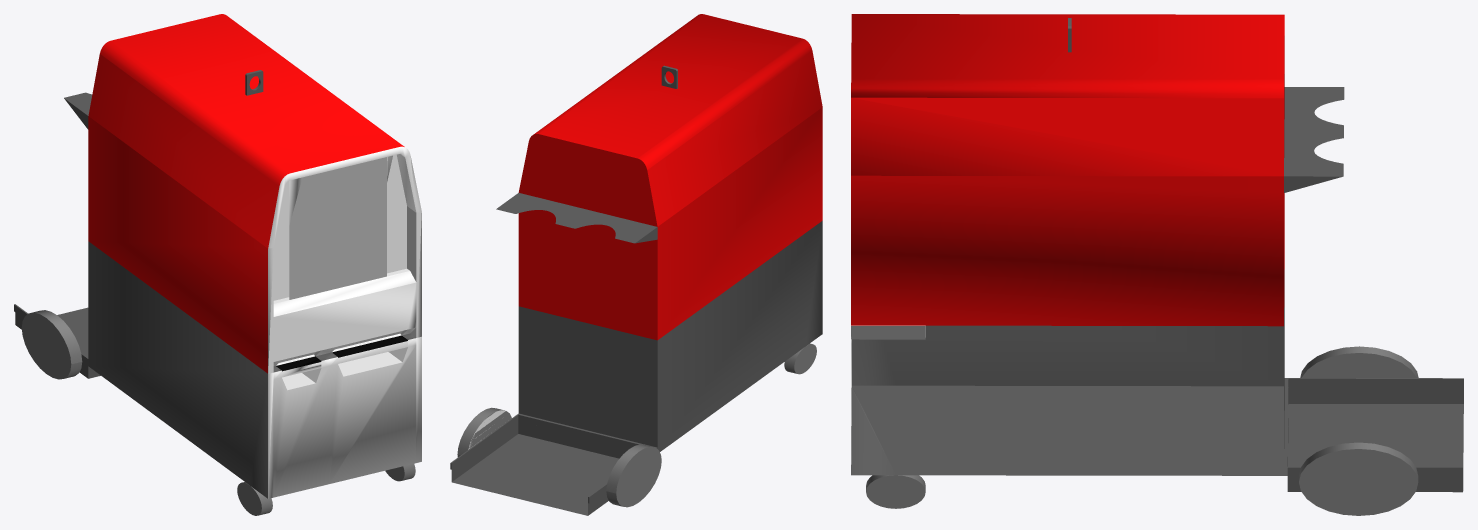
Rendered from Generator.fbx.
The picture shows the model from 3 angles, left to right: view 1: azimuth 30°, elevation 25°; view 2: azimuth 150°, elevation 25°; view 3: azimuth 270°, elevation 25°; orthographic projection. The views are drawn at different scales.
Parts seen in each view (by area): view 1: Generator; view 2: Generator; view 3: Generator.
Part boxes in pixels (left/top/right/bottom): Generator: left=14, top=14, right=421, bottom=515; Generator: left=450, top=14, right=822, bottom=515; Generator: left=851, top=14, right=1463, bottom=515.
Bounding box in the file's own units: 32.53 × 65.35 × 82.1.
